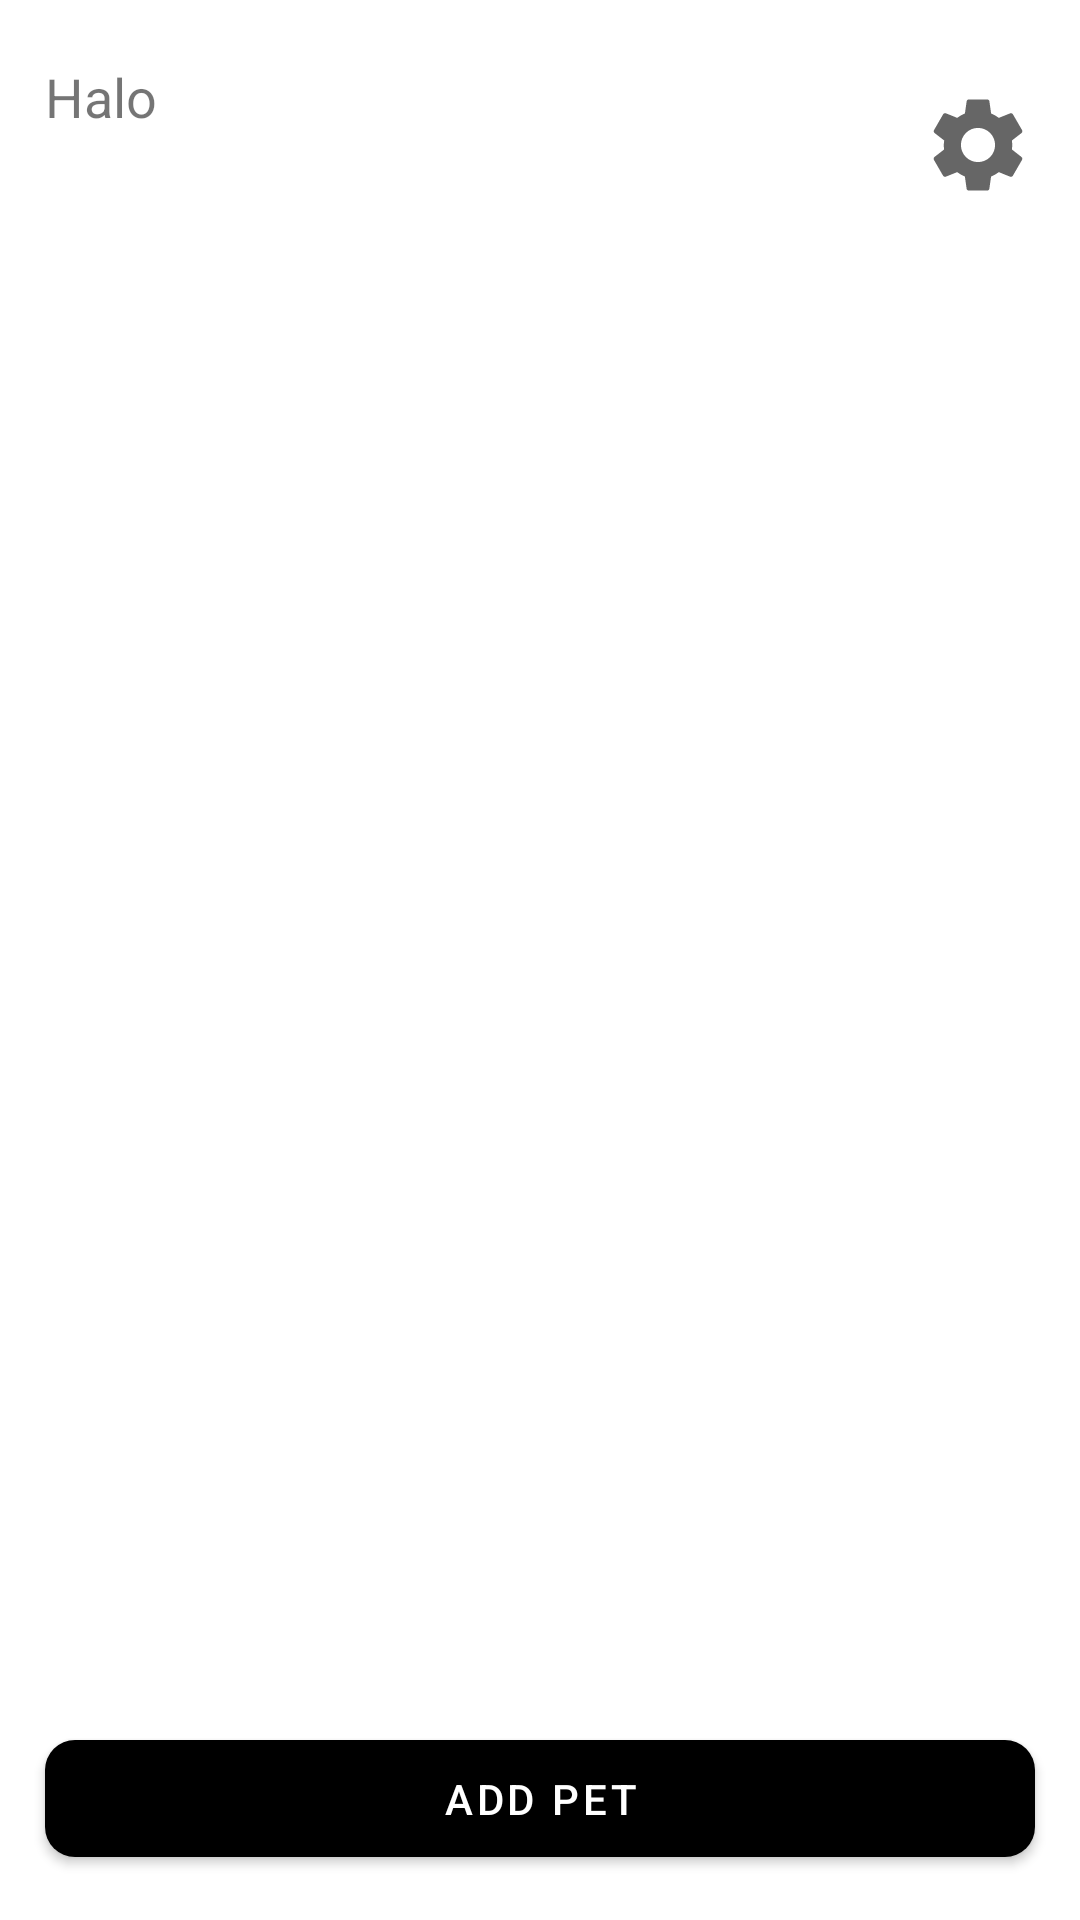

Named icons in this screenshot (1080px×1920px) and their bounding boxes, (x1, y1, x2, y2):
settings: (933, 99, 1023, 191)
